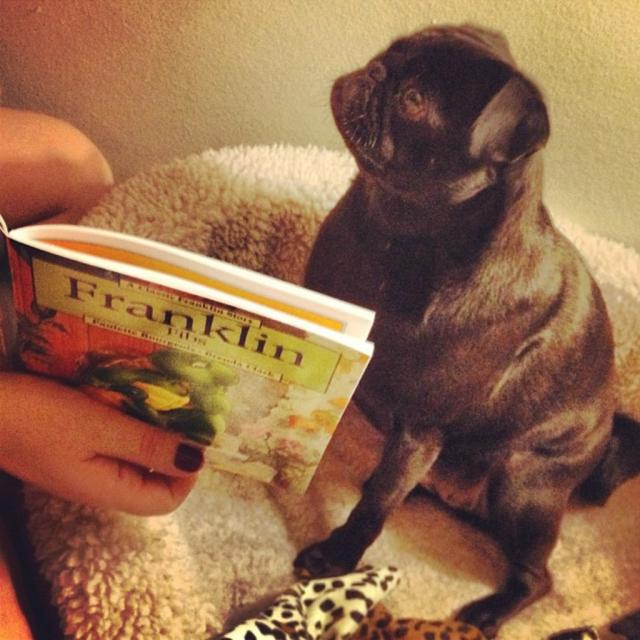Dog: (299, 21, 638, 638), (207, 563, 598, 638), (92, 347, 245, 442)
